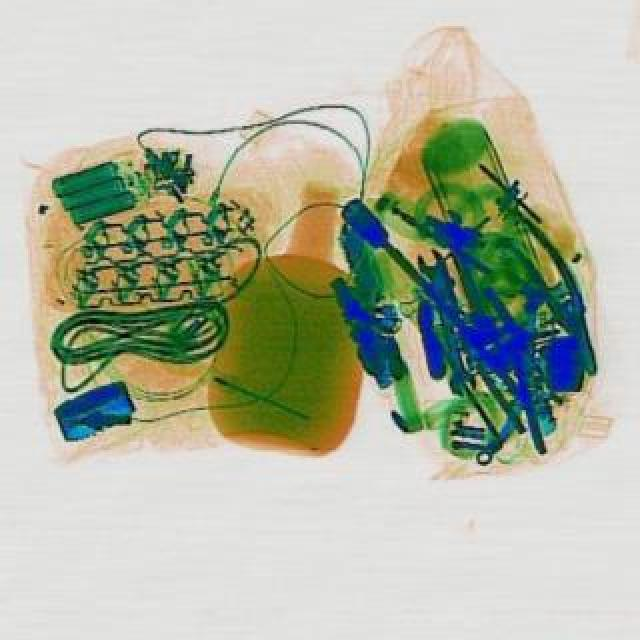scissors: (410, 244, 482, 398)
wrench: (494, 210, 620, 382)
